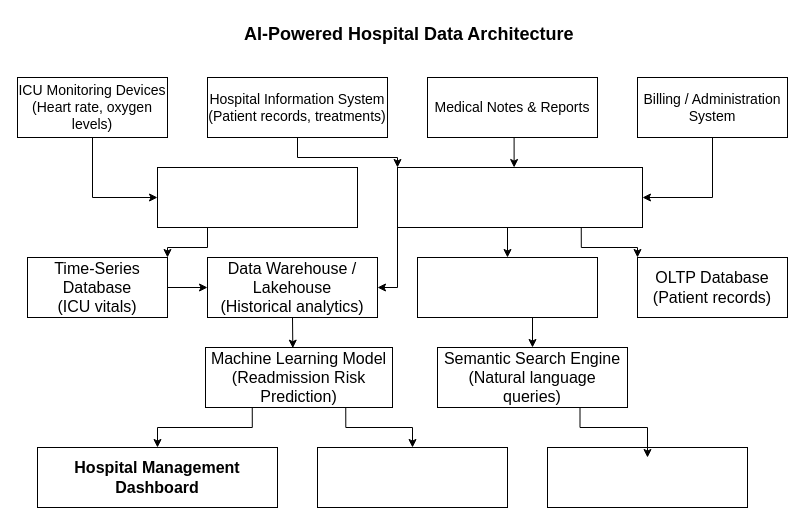
Some shapes in this 805 by 525 pixel diagram are drawn without their labels. The box of each missing label's shape, as (x1, y1, x2, y2) in pixels:
Doctor Query Interface: (546, 446, 748, 508)
ETL Pipeline (Data cleaning & transformation): (396, 166, 642, 228)
Prediction Alerts (Readmission Risk): (316, 446, 508, 508)
Streaming Pipeline (Real-time data ingestion): (156, 166, 358, 228)
Vector Database (Medical text embeddings): (416, 256, 598, 318)
